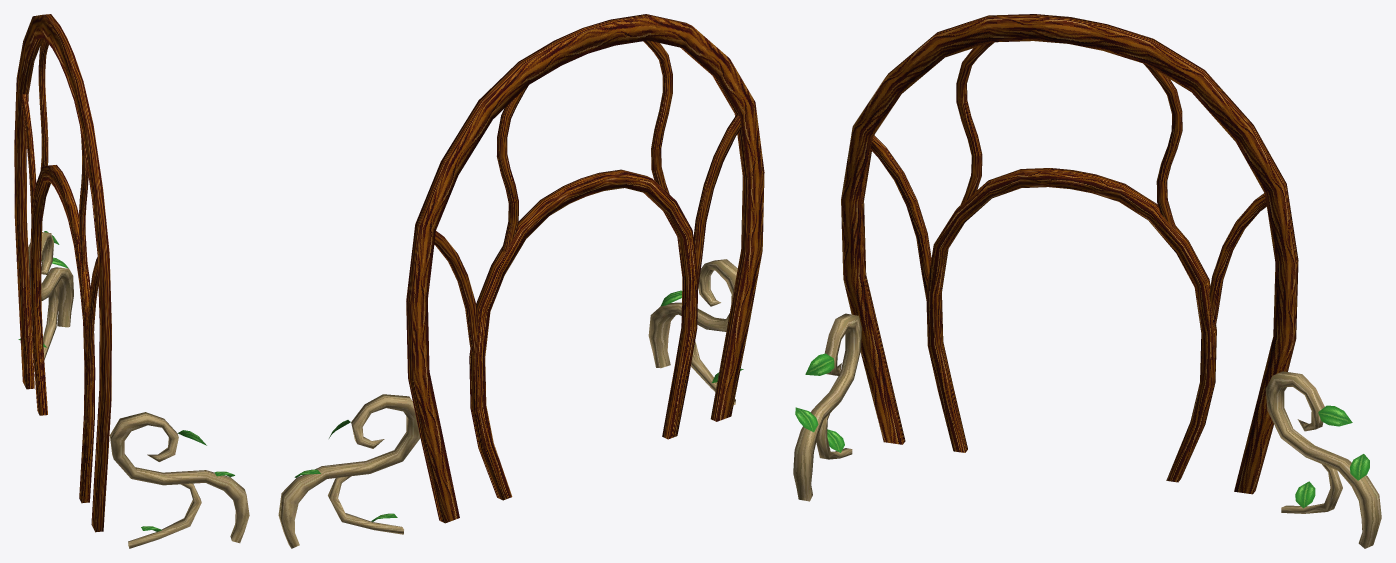
File: EKH_THRONE_PS_TH_DOOR47463__GX.fbx
The picture shows the model from 3 angles, left to right: view 1: azimuth 30°, elevation 25°; view 2: azimuth 150°, elevation 25°; view 3: azimuth 270°, elevation 25°; orthographic projection. The views are drawn at different scales.
Visible parts, largest first — view 1: EKH_THRONE_PS_TH_DOOR47463__GX; view 2: EKH_THRONE_PS_TH_DOOR47463__GX; view 3: EKH_THRONE_PS_TH_DOOR47463__GX.
Boxes of the visible parts, x1,y1,x2,y2 form: EKH_THRONE_PS_TH_DOOR47463__GX: (14,14,249,548); EKH_THRONE_PS_TH_DOOR47463__GX: (278,14,764,548); EKH_THRONE_PS_TH_DOOR47463__GX: (793,14,1381,548).
Size of the model in its own units: 19627 by 36749 by 43137.
3 materials, 3 textured.
